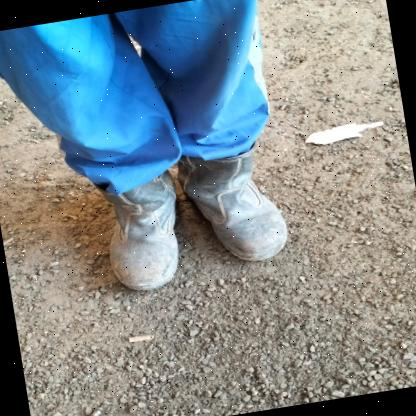bota: (174, 128, 297, 271), (75, 156, 198, 298)
